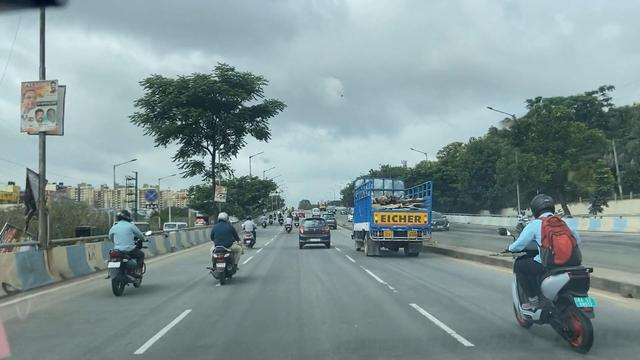HMV: (352, 177, 431, 253)
LMV: (498, 192, 615, 357), (113, 208, 144, 301), (211, 212, 242, 282), (299, 218, 326, 252)
